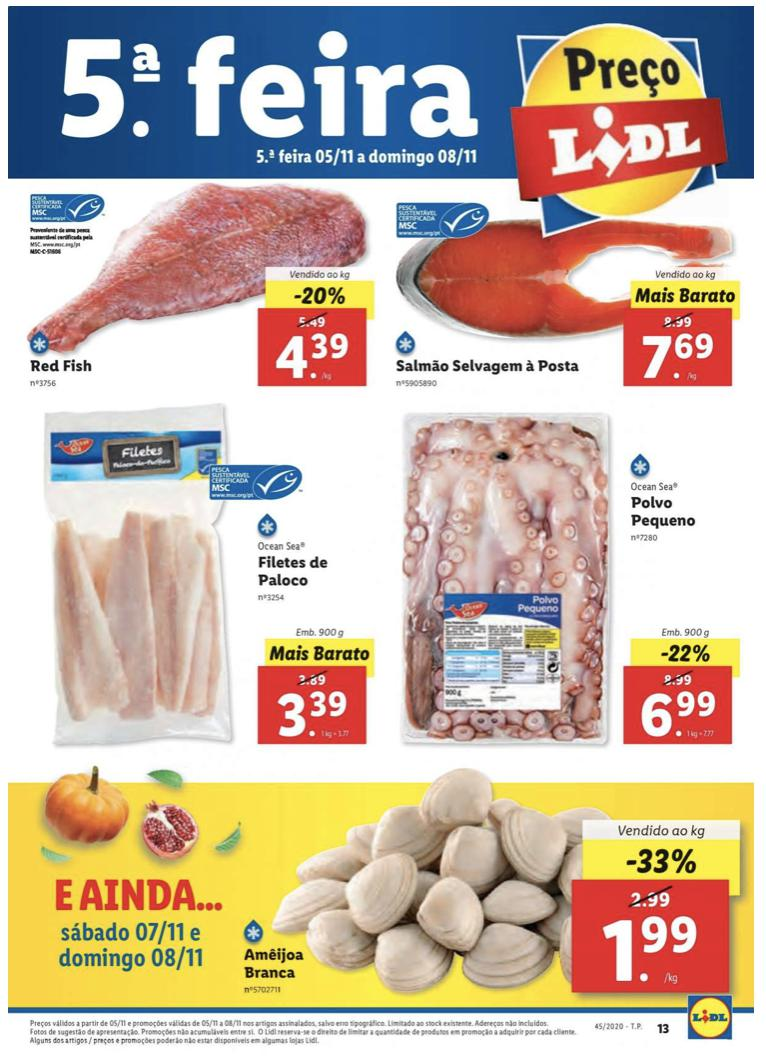name: (395, 353, 584, 377), (627, 492, 704, 533), (256, 554, 333, 592), (239, 946, 302, 980), (30, 354, 95, 377)
price: (598, 911, 701, 987), (277, 327, 354, 384), (271, 686, 348, 741), (642, 330, 720, 379), (645, 692, 717, 740)
product: (380, 402, 751, 769), (16, 405, 380, 767), (227, 784, 758, 1008), (387, 184, 751, 403), (12, 184, 379, 391)
promotion: (626, 848, 698, 880), (292, 283, 348, 308), (660, 642, 714, 666)
